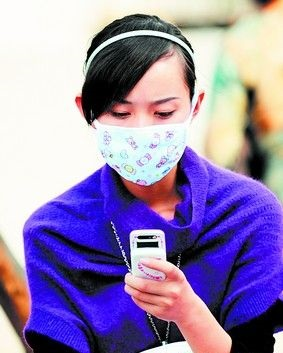face_mask: (100, 53, 188, 184)
